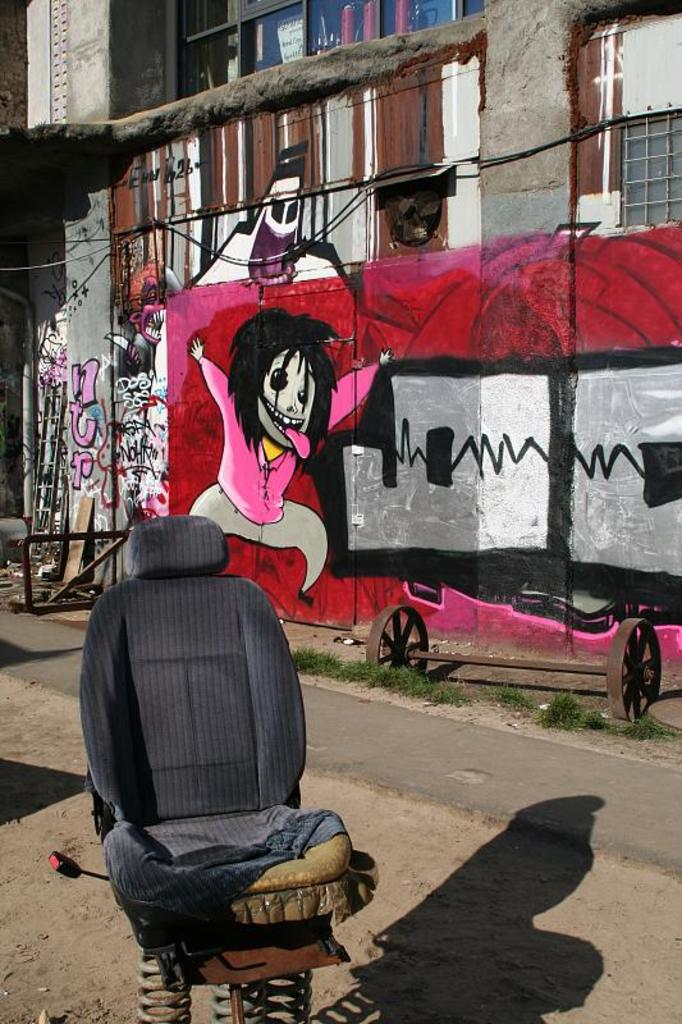Person: (187, 306, 394, 607)
